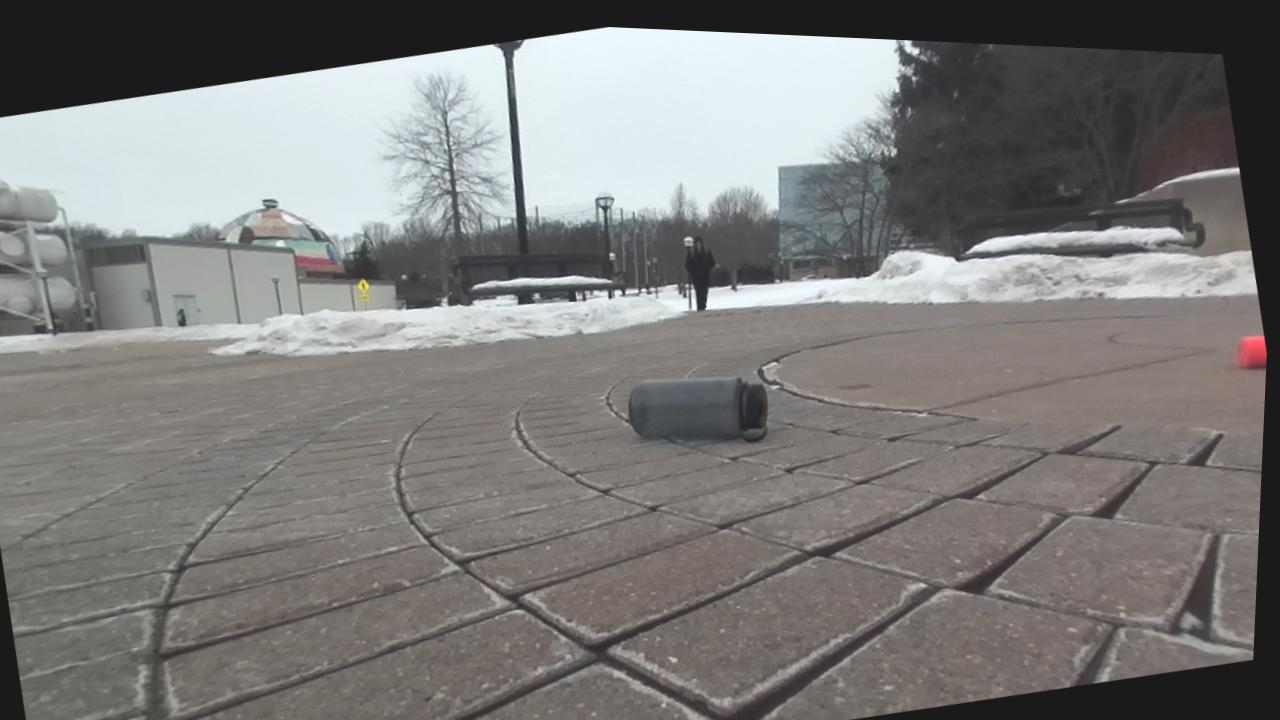bottle: (627, 377, 767, 441)
mallet: (1237, 334, 1267, 366)
